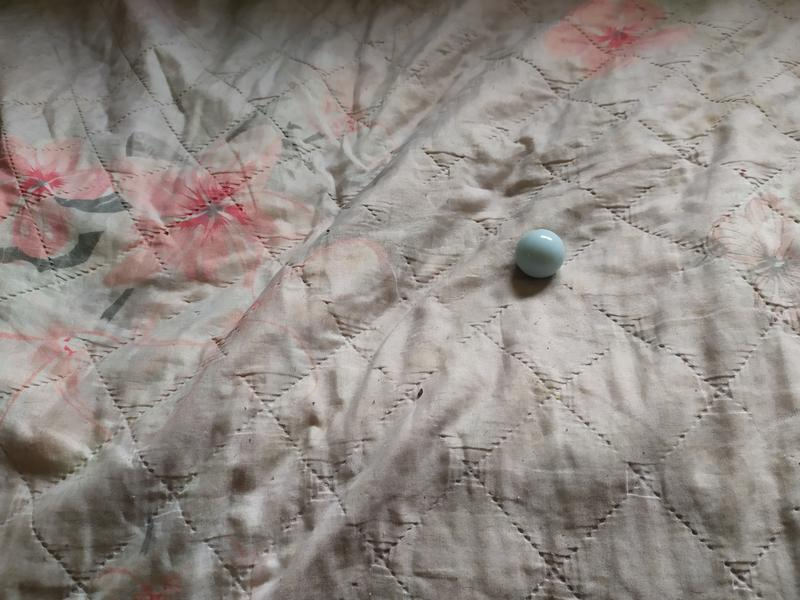Warning: (513, 226, 567, 280)
